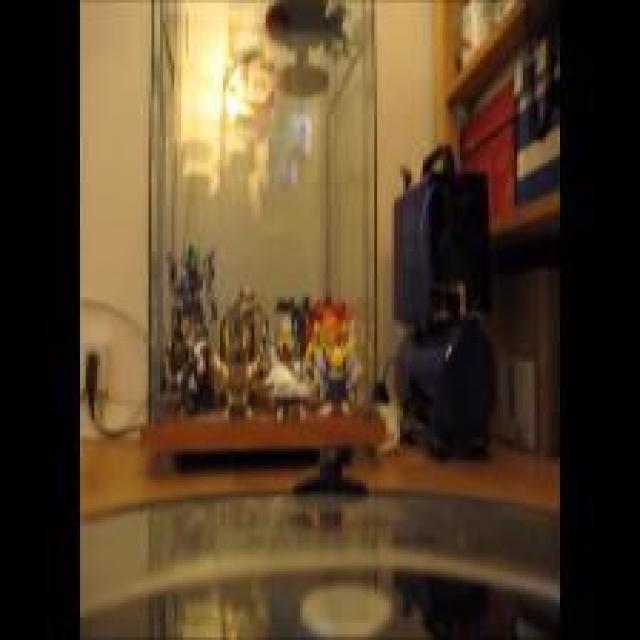other: (171, 18, 266, 155), (312, 292, 358, 374)
